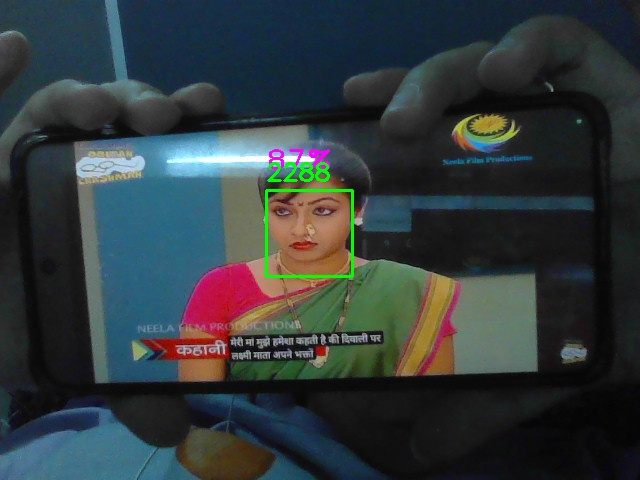fake: (266, 190, 353, 277)
